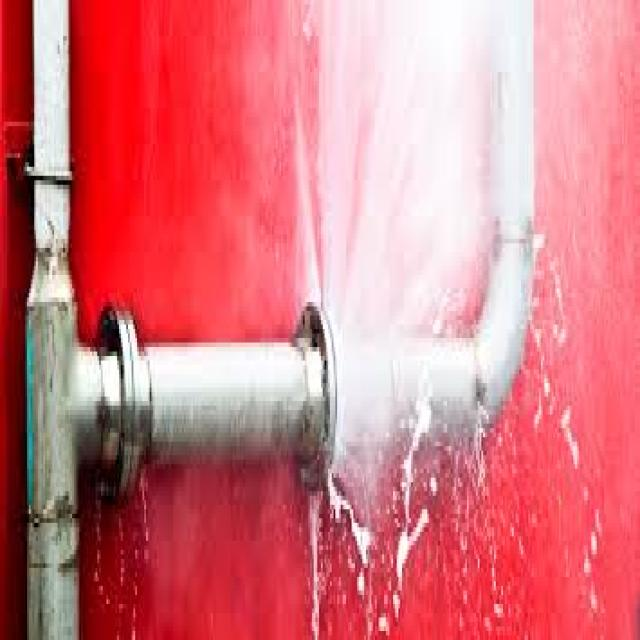corrosion: (234, 178, 441, 572)
